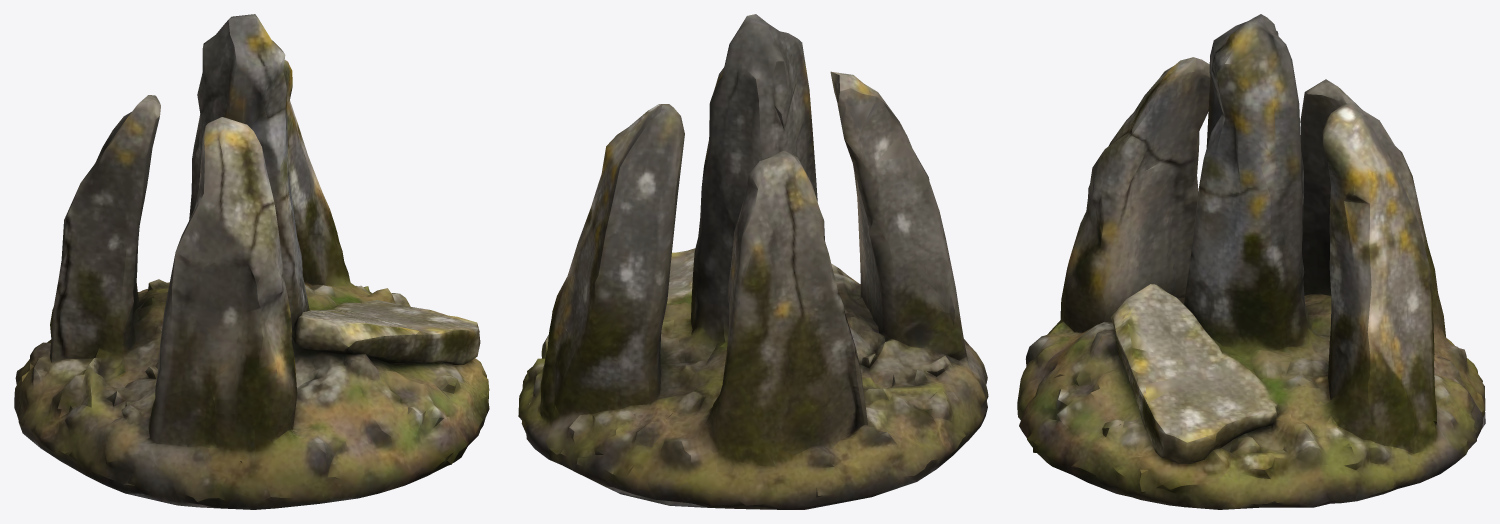
Rendered from prop-standing-stones.glb.
3 renders of one model, left to right at view 1: azimuth 30°, elevation 25°; view 2: azimuth 150°, elevation 25°; view 3: azimuth 270°, elevation 25°, orthographic.
Parts seen in each view (by area): view 1: prop-standing-stones; view 2: prop-standing-stones; view 3: prop-standing-stones.
Part boxes in pixels (bbox=[...]): prop-standing-stones: bbox=[14, 14, 489, 509]; prop-standing-stones: bbox=[518, 14, 988, 509]; prop-standing-stones: bbox=[1017, 14, 1485, 509].
Bounding box in the file's own units: 5.95 × 5.6 × 6.02.
1 material, 1 textured.
